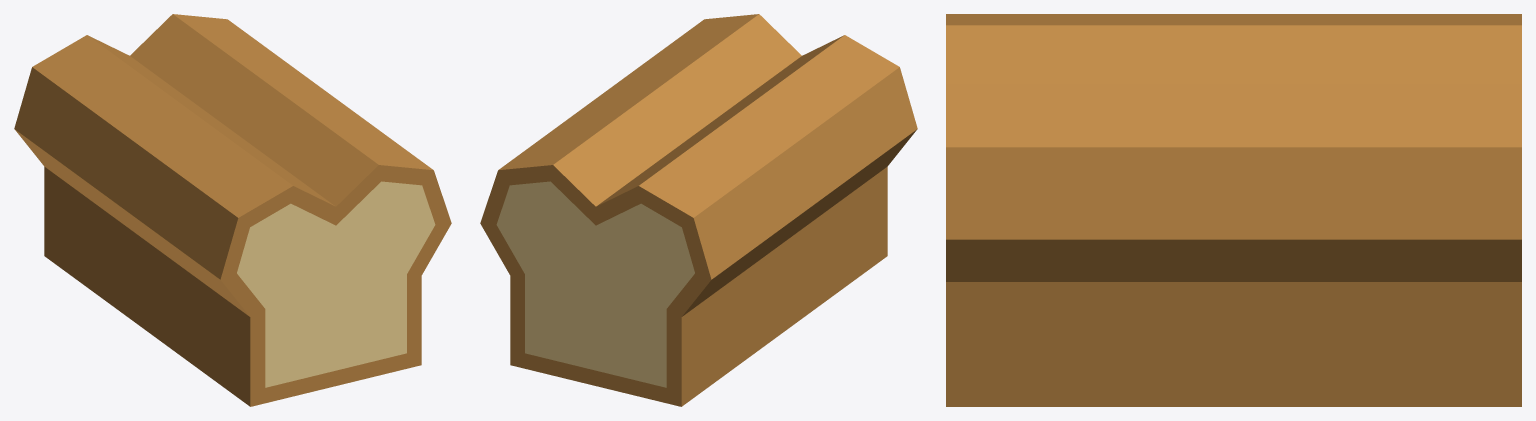
The model's file is bread.fbx.
The picture shows the model from 3 angles, left to right: view 1: azimuth 30°, elevation 25°; view 2: azimuth 150°, elevation 25°; view 3: azimuth 270°, elevation 25°; orthographic projection. The views are drawn at different scales.
Visible parts, largest first — view 1: Plane.002; view 2: Plane.002; view 3: Plane.002.
Part boxes in pixels (x1,y1,x2,y2): Plane.002: (14, 14, 451, 406); Plane.002: (480, 14, 917, 406); Plane.002: (946, 14, 1521, 406).
Bounding box in the file's own units: 0.1864 × 0.1622 × 0.2879.
Materials: 1 (1 with a texture image).
